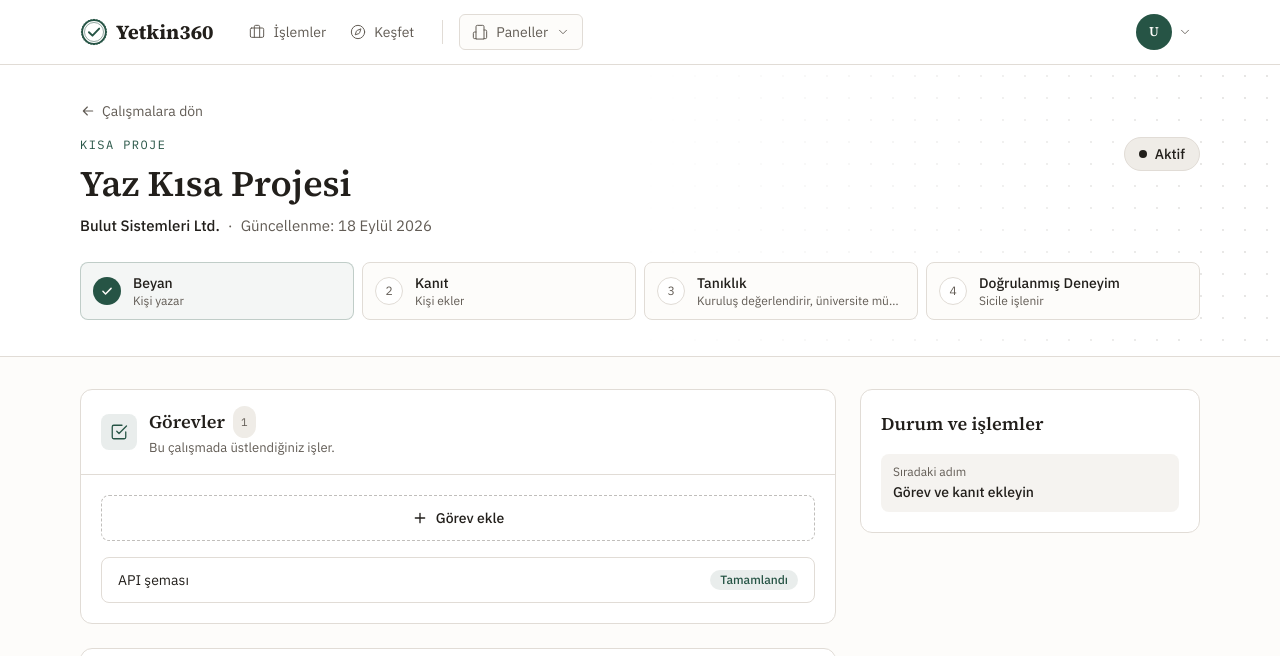
Test: CalismaDetayPage (/calismalar/[id]) › YET-202/ENT-01: ACTIVE durumunda görev ekleme formu 'Görev ekle' ile açılır
Expected: the text "Yeni Görev Ekle" is not shown
Click the button "Görev ekle" at (458, 518), box top-left (101, 494), bottom-right (815, 540)
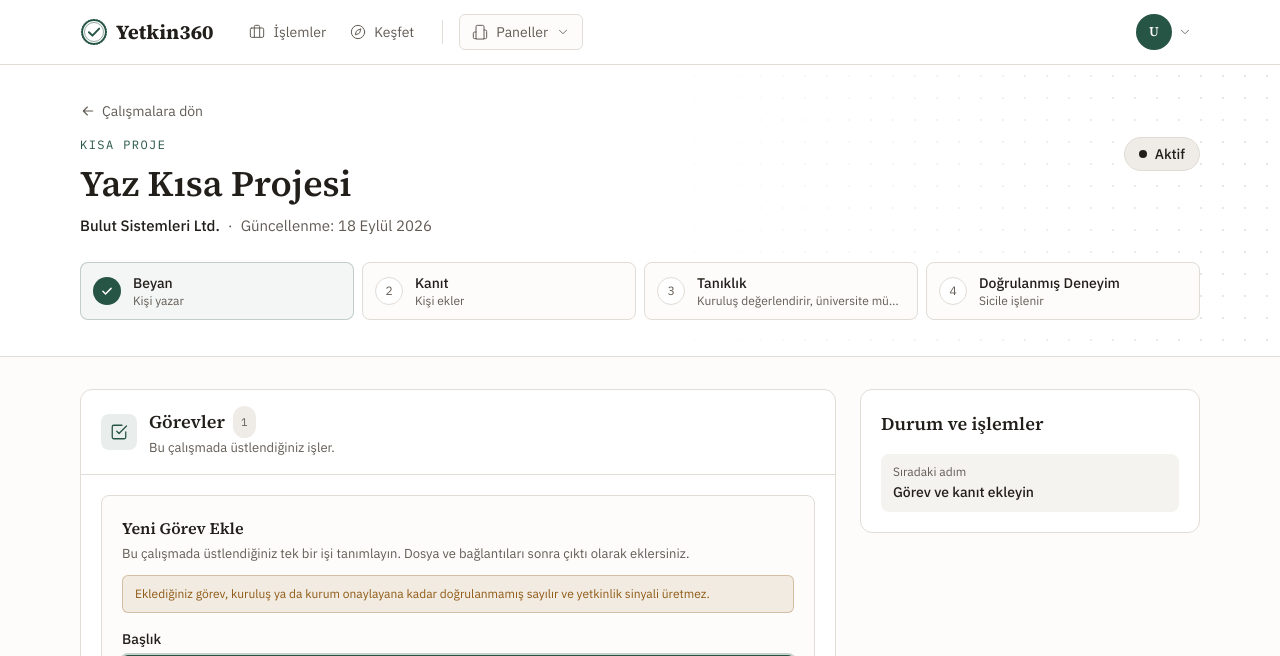
Expected: the heading "Yeni Görev Ekle" is shown, top-left (122, 516), bottom-right (244, 538)
